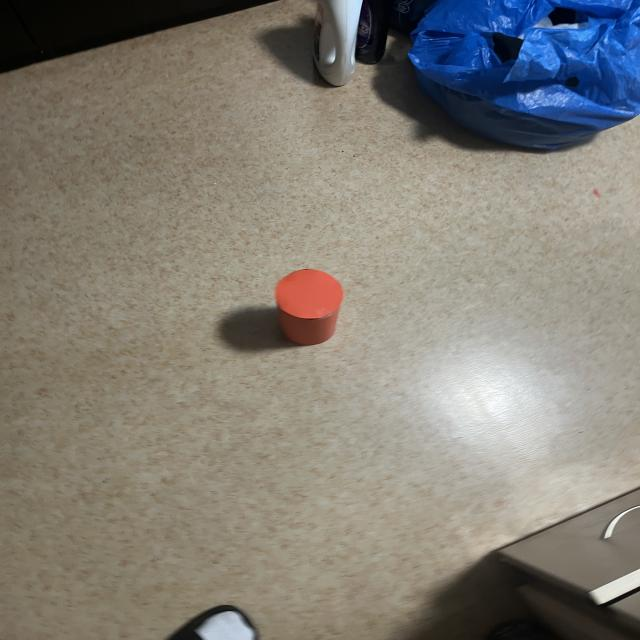przeszkoda: (274, 269, 343, 345)
